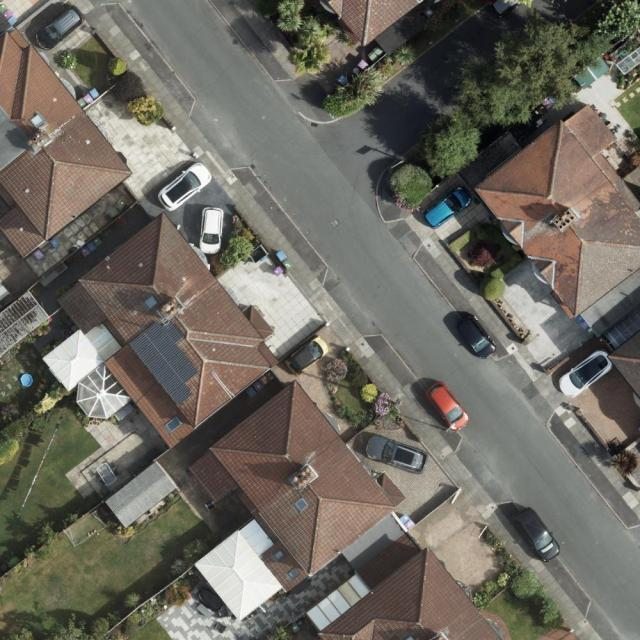roof: (187, 377, 505, 640), (42, 212, 281, 450), (473, 98, 640, 399), (0, 9, 131, 259), (318, 0, 428, 48)
skylight: (304, 571, 374, 632), (77, 362, 133, 420), (165, 415, 184, 435), (293, 494, 310, 516), (27, 110, 47, 128), (143, 290, 161, 309), (287, 565, 302, 580), (273, 547, 288, 561)
solar: (128, 319, 199, 405)
